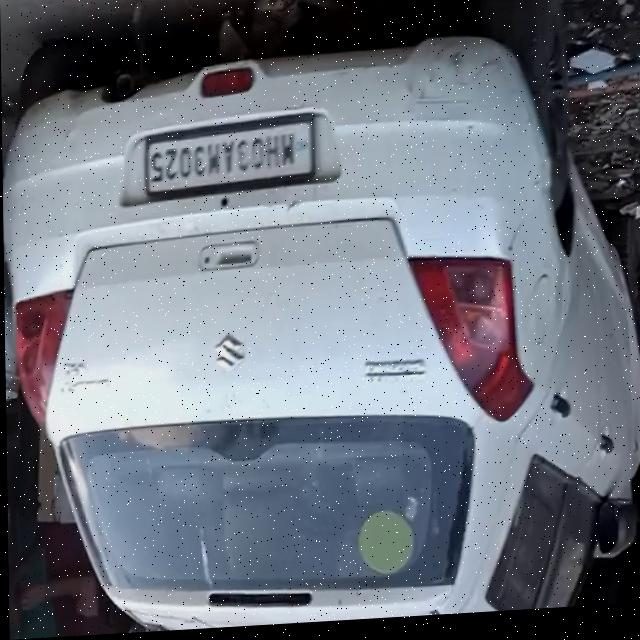plate: (141, 114, 316, 203)
